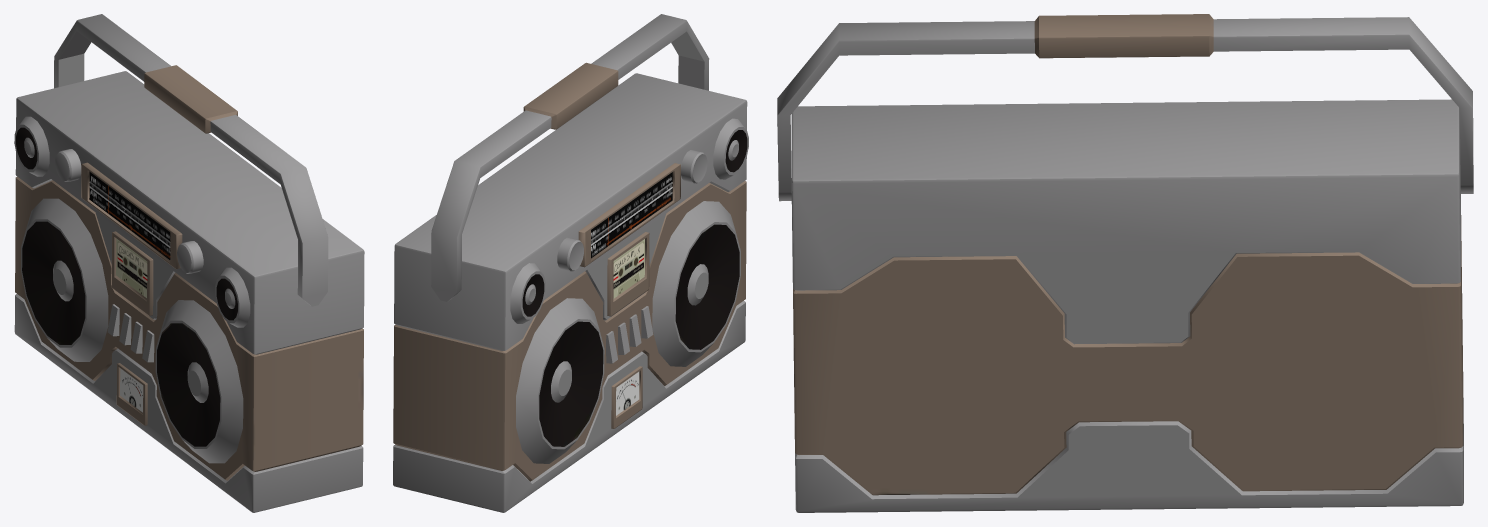
Rendered from boombox.glb.
3 renders of one model, left to right at view 1: azimuth 30°, elevation 25°; view 2: azimuth 150°, elevation 25°; view 3: azimuth 270°, elevation 25°, orthographic. The views are drawn at different scales.
Visible parts, largest first — view 1: Boombox_LOD0; view 2: Boombox_LOD0; view 3: Boombox_LOD0.
Part boxes in pixels (x1,y1,x2,y2): Boombox_LOD0: [14, 14, 364, 512]; Boombox_LOD0: [393, 14, 748, 512]; Boombox_LOD0: [777, 14, 1473, 512].
Bounding box in the file's own units: 0.1252 × 0.3118 × 0.4352.
Materials: 1 (1 with a texture image).
